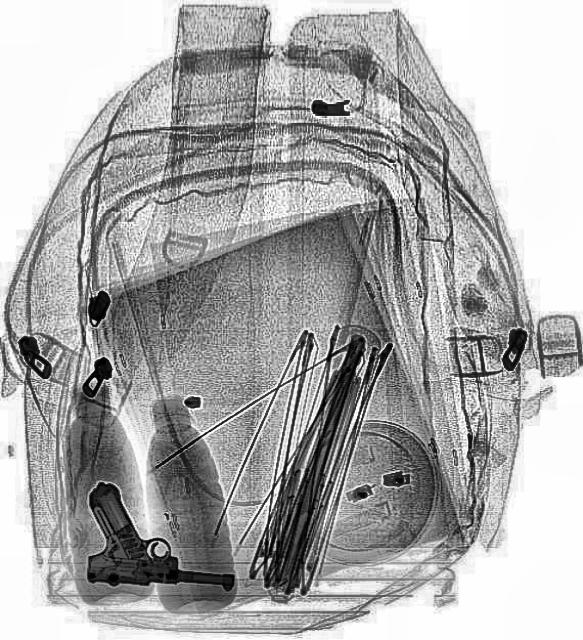Gun: (79, 480, 241, 594)
